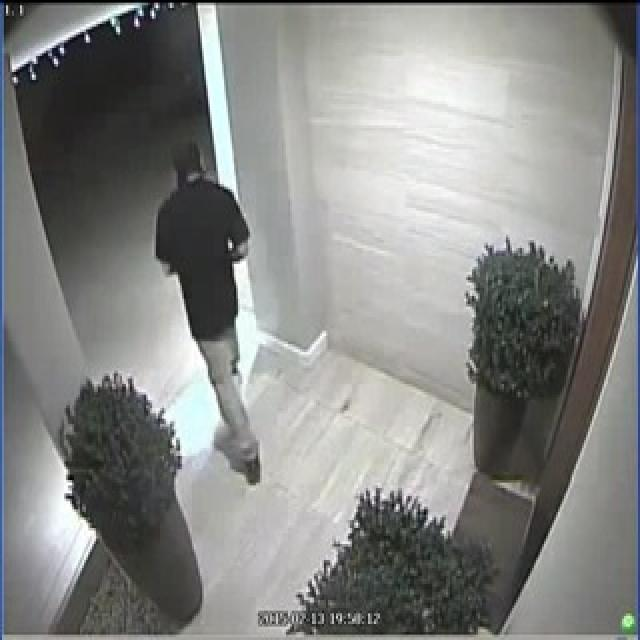thief: (144, 131, 275, 486)
